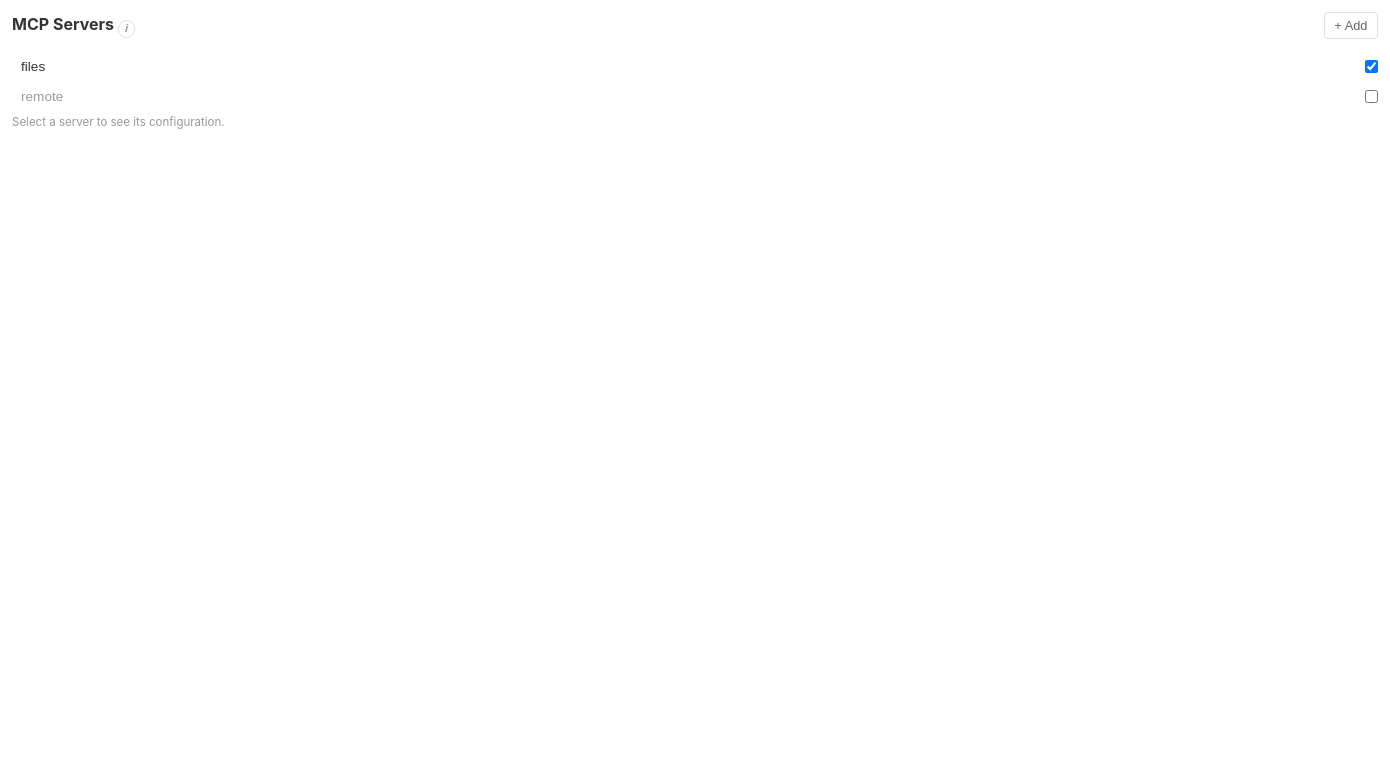
Test case: SettingsMcp › opens the editable form only after Edit
Click the button with class "mcp-row-name" showing "files". click: (33, 66)
box: x1=12 y1=52 x2=1357 y2=80
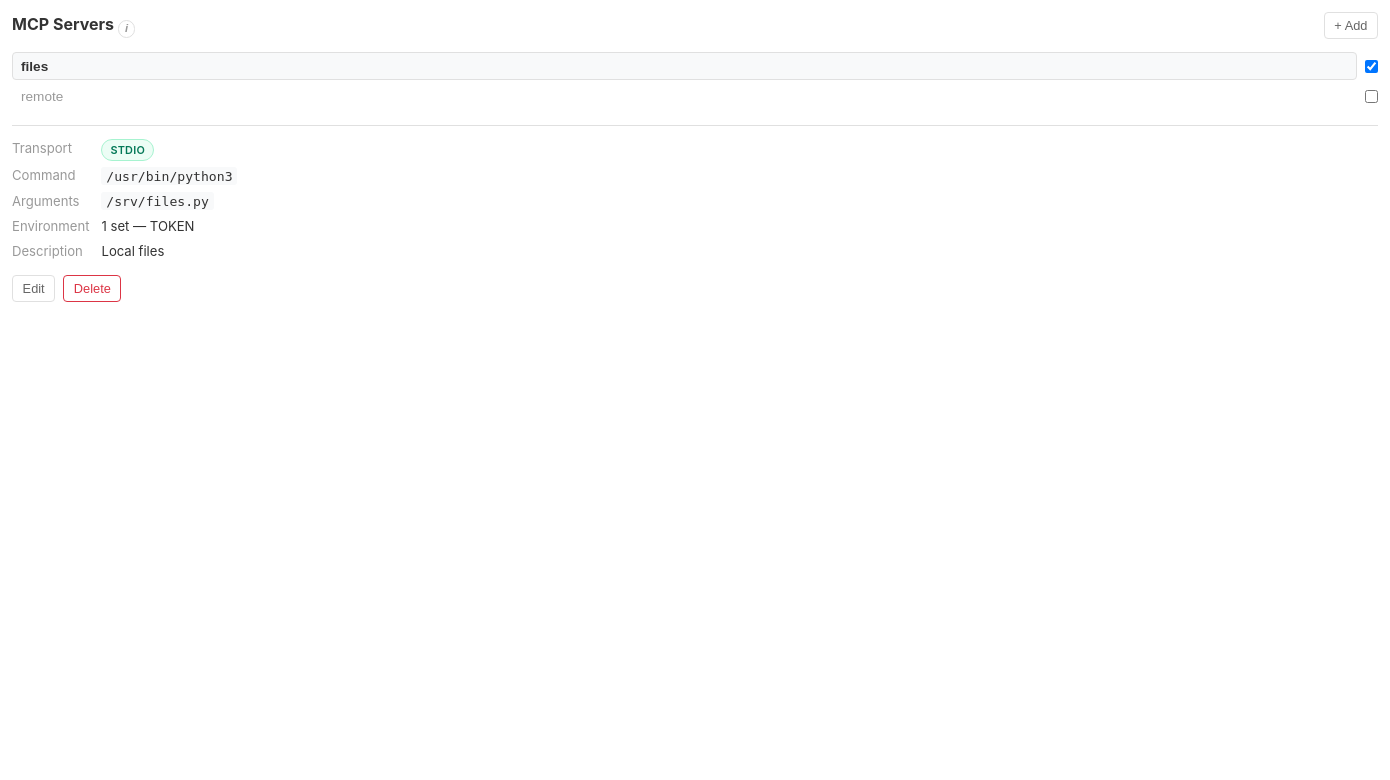
Click the button "Edit". click: (34, 289)
box: x1=12 y1=275 x2=55 y2=302
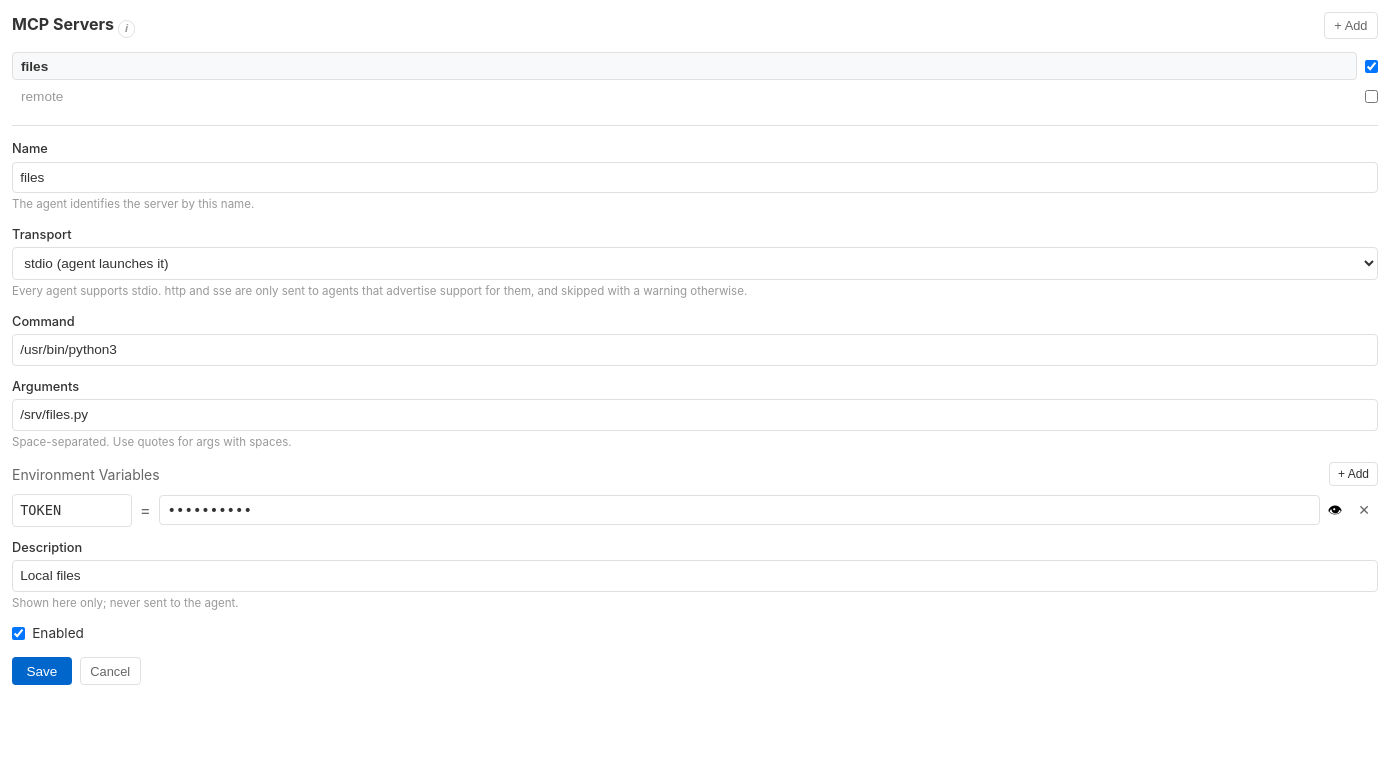
Expected: the 1st field holds "files", x1=12 y1=162 x2=1378 y2=193
